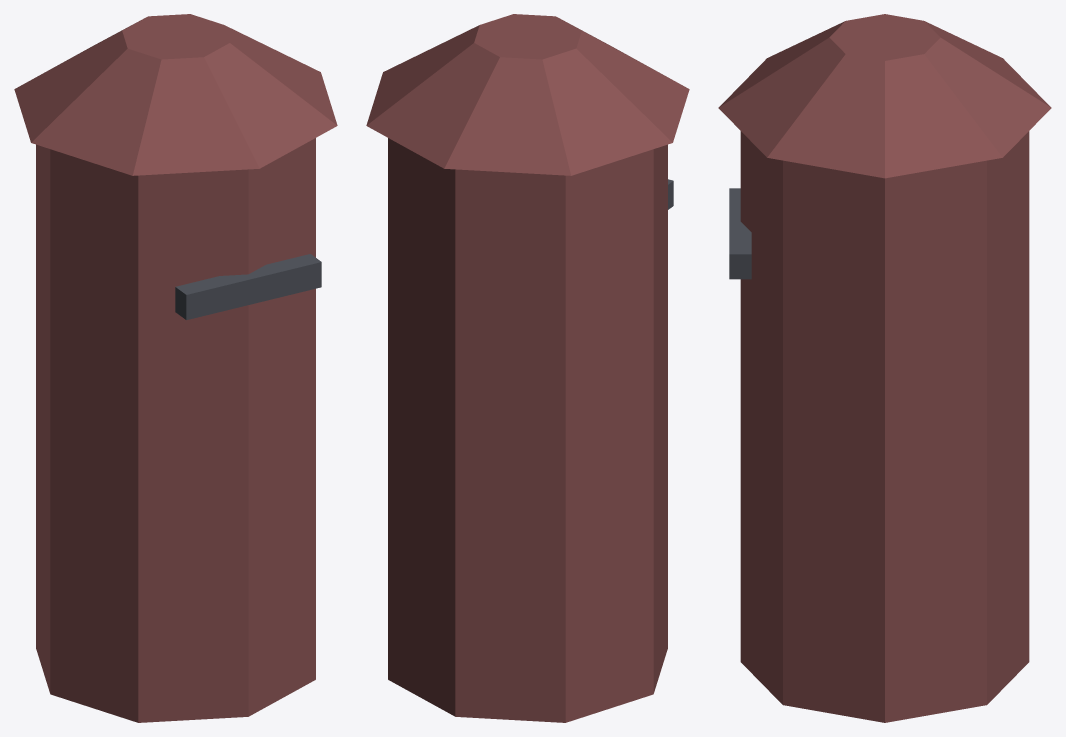
File: buzon.glb
3 renders of one model, left to right at view 1: azimuth 30°, elevation 25°; view 2: azimuth 150°, elevation 25°; view 3: azimuth 270°, elevation 25°, orthographic.
Visible parts, largest first — view 1: Buzon; view 2: Buzon; view 3: Buzon.
Part boxes in pixels (x1,y1,x2,y2): Buzon: (14, 14, 337, 722); Buzon: (366, 14, 689, 722); Buzon: (718, 14, 1051, 722).
Size of the model in its own units: 0.6 by 1.24 by 0.6.
